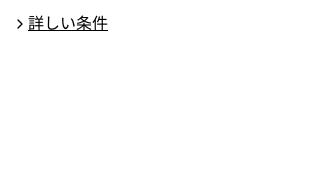
Test: Disclosure › opens and closes with aria-expanded pointing at the content
Expected: the text "18歳以上" is not shown
Click the button "詳しい条件" at (60, 24), box top-left (12, 12), bottom-right (108, 36)
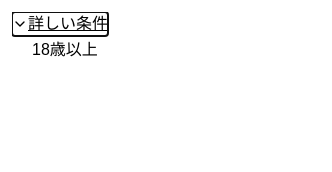
Result: the button "詳しい条件" is expanded at top-left (12, 12), bottom-right (108, 36)
Result: the text "18歳以上" is shown at top-left (32, 41), bottom-right (98, 58)
